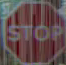Stop: (3, 6, 65, 51)
